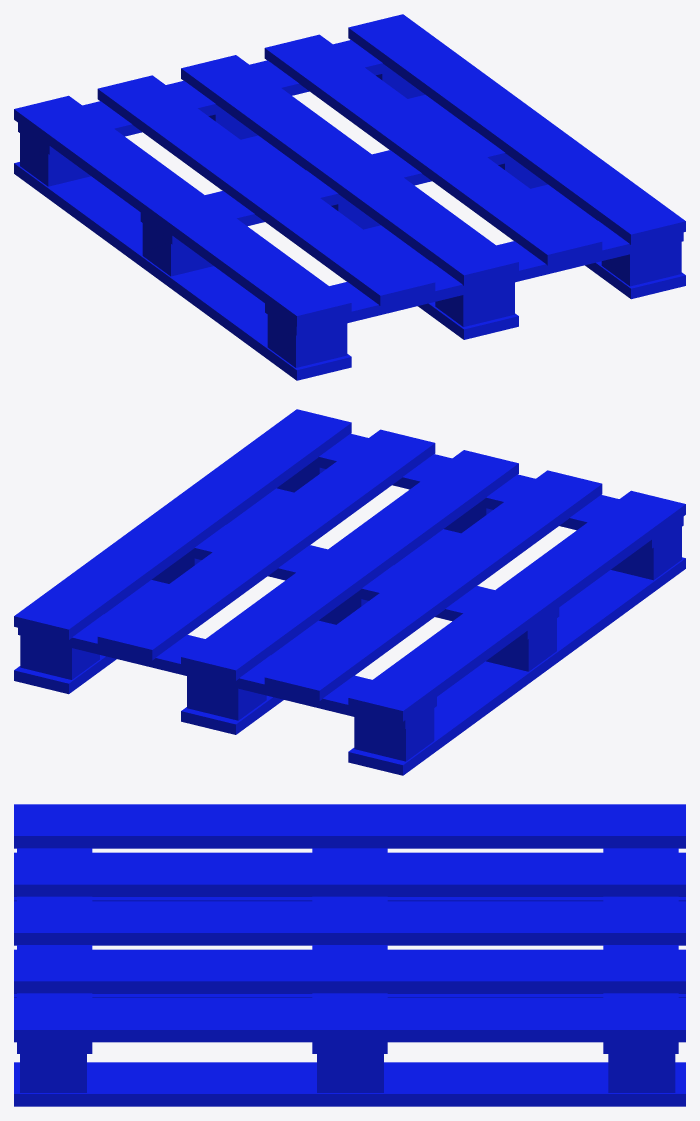
Rendered from pallet.FBX.
3 renders of one model, top to bottom at view 1: azimuth 30°, elevation 25°; view 2: azimuth 150°, elevation 25°; view 3: azimuth 270°, elevation 25°, orthographic. The views are drawn at different scales.
Visible parts, largest first — view 1: pallet_LP; view 2: pallet_LP; view 3: pallet_LP.
Boxes of the visible parts, x1,y1,x2,y2 form: pallet_LP: (14,14,685,380); pallet_LP: (14,409,685,775); pallet_LP: (14,804,685,1106).
Bounding box in the file's own units: 113 × 17.99 × 143.
